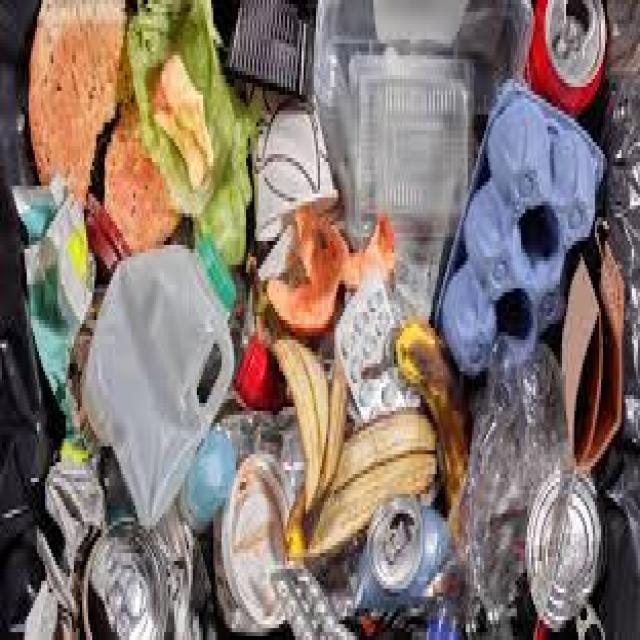Wet: (264, 326, 478, 616), (23, 8, 227, 245), (255, 187, 395, 369)
